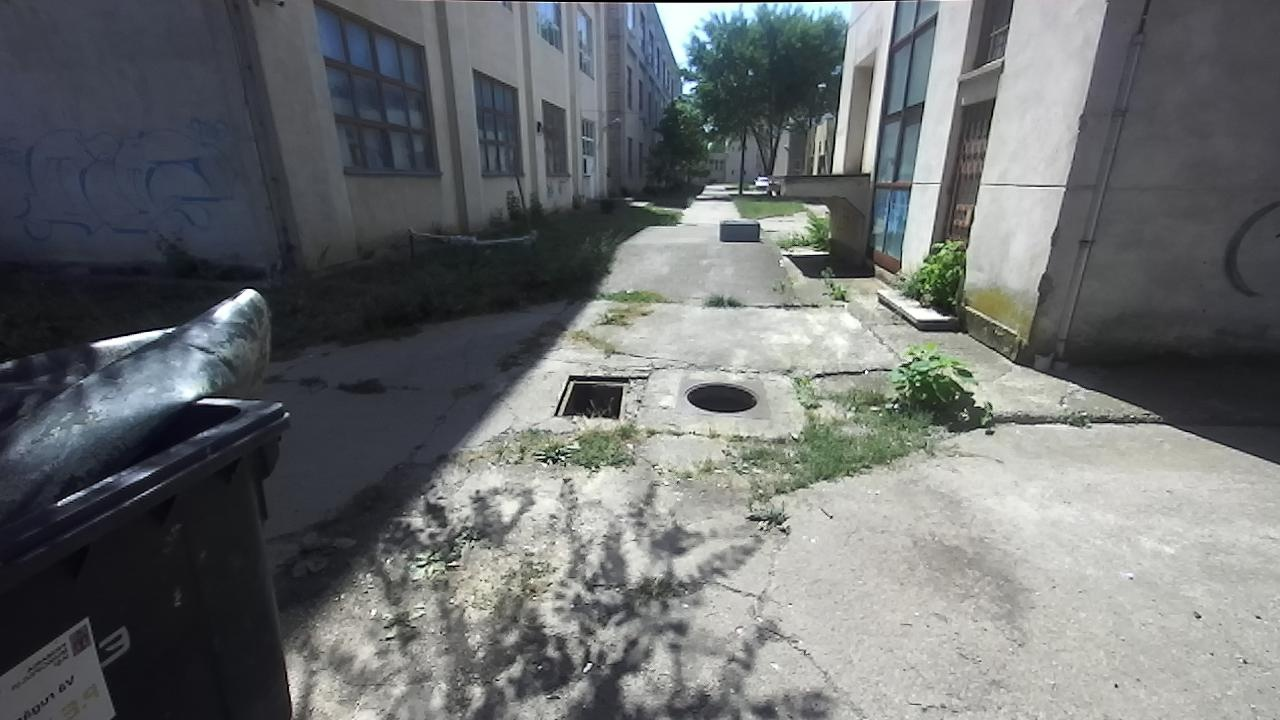drain: (548, 373, 649, 423), (674, 379, 763, 414)
